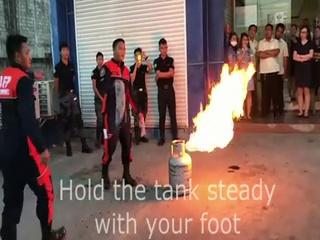Fire: (182, 44, 248, 155)
